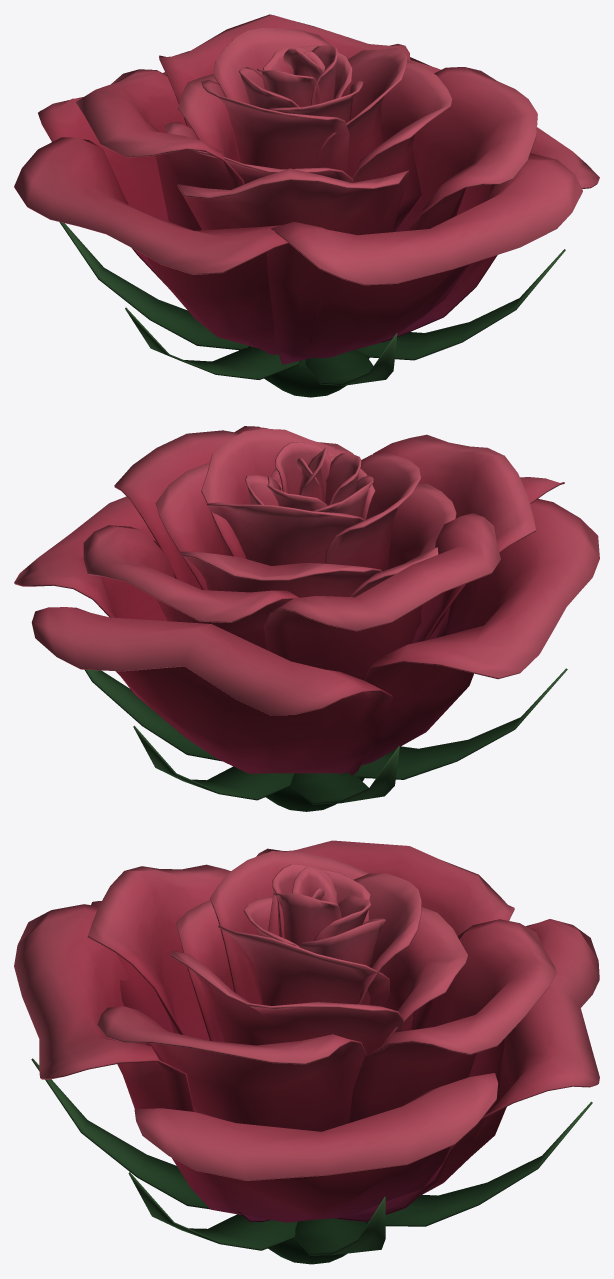
The model's file is FullRoseHead.fbx.
The picture shows the model from 3 angles, top to bottom: view 1: azimuth 30°, elevation 25°; view 2: azimuth 150°, elevation 25°; view 3: azimuth 270°, elevation 25°; orthographic projection. The views are drawn at different scales.
Parts seen in each view (by area): view 1: Rose; view 2: Rose; view 3: Rose.
Boxes of the visible parts, x1,y1,x2,y2 form: Rose: (14,14,599,397); Rose: (14,426,599,811); Rose: (14,840,599,1264).
Bounding box in the file's own units: 29.17 × 19.75 × 27.52.
